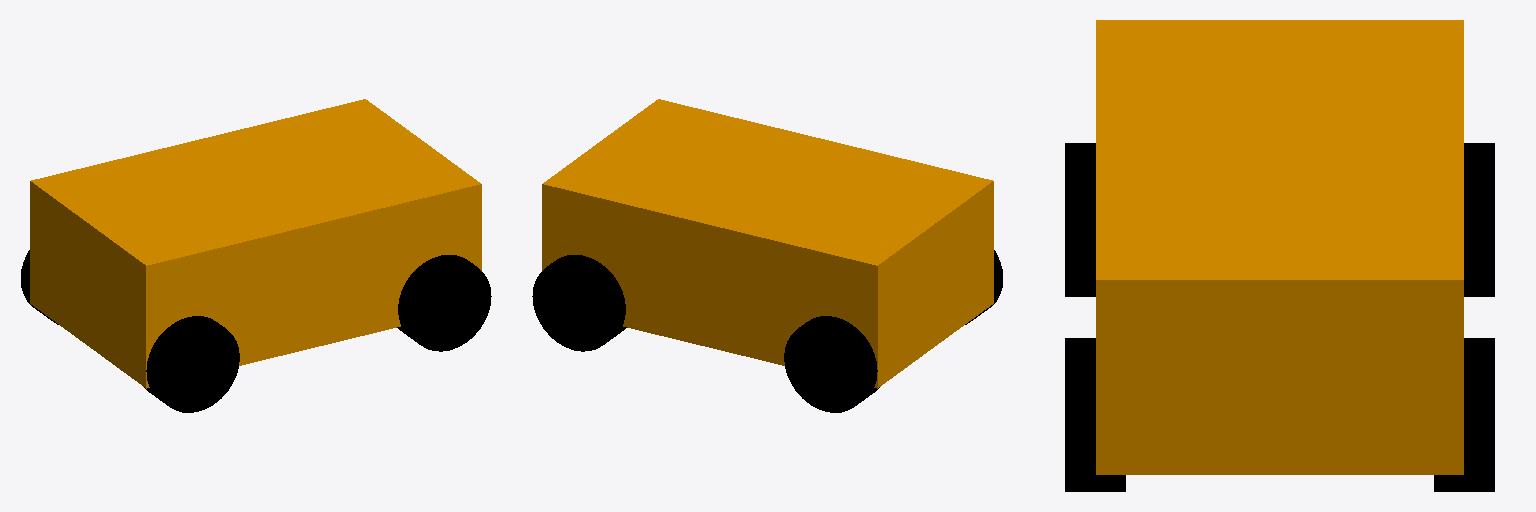
robot.urdf — my_car:
<!-- 
  urdf中默认单位m
  需求:创建一个四轮机器人模型
  参数: 
  车体 长 0.2 宽 0.12 高0.07
  轮胎 半径0.025 宽度0.02 
  离地0.015

  步骤:
    1.添加设置base_footprint
    2.设置base_link 
    3.使用关节关联base_link和base_footprint
    4.添加一个车轮
    5.将车轮与base_link关联
    6.复制车轮，完成四个车轮的添加

  注意:
    如果在零件中设置旋转,那么当前的零件坐标系不会发生变化,只是视觉效果发生变化
    关节的origin标签中设置的xyz和rpy是相对于父连接件坐标系的,会同时旋转坐标系
-->

<robot name="my_car">
  <!-- 抽取颜色 -->
  <material name="yellow">
    <color rgba="0.9 0.6 0.0 0.5"/>
  </material>
  <material name="black">
    <color rgba="0.0 0.0 0.0 0.5"/>
  </material>

  <link name="base_footprint">
    <visual>
      <geometry>
        <sphere radius="0.001"/>
      </geometry>
    </visual>
  </link>

  <link name="base_link">
    <visual>
      <geometry>
        <box size="0.2 0.12 0.07"/>
      </geometry>
      <material name="yellow"/>
    </visual>
  </link>
  
  <joint name="base_link_2_base_footprint" type="fixed">
    <parent link="base_footprint"/>
    <child link="base_link"/>
    <!-- z轴偏移量 = 车体高度/2 + 离地间距 -->
    <origin xyz="0 0 0.05" rpy="0 0 0"/>
  </joint>

  <link name="left_front_wheel">
    <visual>
      <geometry>
        <cylinder radius="0.025" length="0.02"/>
      </geometry>
      <material name="black"/>
    </visual>
  </link>
  <!-- joint_state_publisher 暂时停用 使用 joint_publisher_gui 测试旋转是否正常 -->
  <joint name="left_front_wheel_2_base_link" type="continuous">
    <parent link="base_link"/>
    <child link="left_front_wheel"/>
    <!-- 车体长度/2(相切)   车体宽度/2(一半外面)  车体高度/2 + 离地高度 - 轮子半径    -->
    <origin xyz="0.075 0.06 -0.025" rpy="1.5708 0 0"/>
    <axis xyz="0.0 0.0 1"/>
  </joint>

  <link name="right_front_wheel">
    <visual>
      <geometry>
        <cylinder radius="0.025" length="0.02"/>
      </geometry>
      <material name="black"/>
    </visual>
  </link>

  <joint name="right_front_wheel_2_base_link" type="continuous">
    <parent link="base_link"/>
    <child link="right_front_wheel"/>
    <origin xyz="0.075 -0.06 -0.025" rpy="1.5708 0 0"/>
    <axis xyz="0.0 0.0 1"/>
  </joint>

  <link name="left_back_wheel">
    <visual>
      <geometry>
        <cylinder radius="0.025" length="0.02"/>
      </geometry>
      <material name="black"/>
    </visual>
  </link>

  <joint name="left_back_wheel_2_base_link" type="continuous">
    <parent link="base_link"/>
    <child link="left_back_wheel"/>
    <origin xyz="-0.075 0.06 -0.025" rpy="1.5708 0 0"/>
    <axis xyz="0.0 0.0 1"/>
  </joint>

  <link name="right_back_wheel">
    <visual>
      <geometry>
        <cylinder radius="0.025" length="0.02"/>
      </geometry>
      <material name="black"/>
    </visual>
  </link>

  <joint name="right_back_wheel_2_base_link" type="continuous">
    <parent link="base_link"/>
    <child link="right_back_wheel"/>
    <origin xyz="-0.075 -0.06 -0.025" rpy="1.5708 0 0"/>
    <axis xyz="0.0 0.0 1"/>
  </joint>

</robot>

--- Facts derived from the render (not from the file) ---
The picture shows the robot from 3 angles, left to right: view 1: azimuth 30°, elevation 25°; view 2: azimuth 150°, elevation 25°; view 3: azimuth 270°, elevation 25°; orthographic projection.
Robot: my_car — 6 links, 5 joints (4 continuous, 1 fixed); root link base_footprint; default pose: all joints at 0.
Visible links, largest first — view 1: base_link, right_back_wheel, right_front_wheel; view 2: base_link, left_back_wheel, left_front_wheel; view 3: base_link, left_front_wheel, right_front_wheel, left_back_wheel, right_back_wheel.
Link boxes in pixels (box(x1,y1,x2,y2)): base_link: box(30, 99, 481, 388); right_back_wheel: box(144, 316, 239, 412); right_front_wheel: box(397, 255, 491, 351); base_link: box(542, 99, 993, 388); left_back_wheel: box(784, 316, 879, 412); left_front_wheel: box(532, 255, 626, 351); base_link: box(1096, 20, 1463, 474); left_front_wheel: box(1434, 338, 1494, 491); right_front_wheel: box(1065, 338, 1125, 491); left_back_wheel: box(1464, 143, 1494, 296); right_back_wheel: box(1065, 143, 1095, 296).
Bounding box of the posed robot: 0.2 × 0.14 × 0.086 m (x, y, z).
Geometry: primitives only (box / cylinder / sphere), no mesh files.
